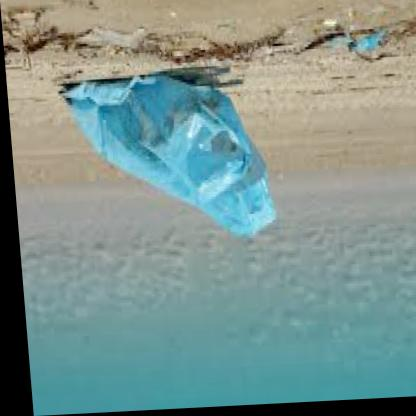Plastic: (43, 57, 278, 246)
